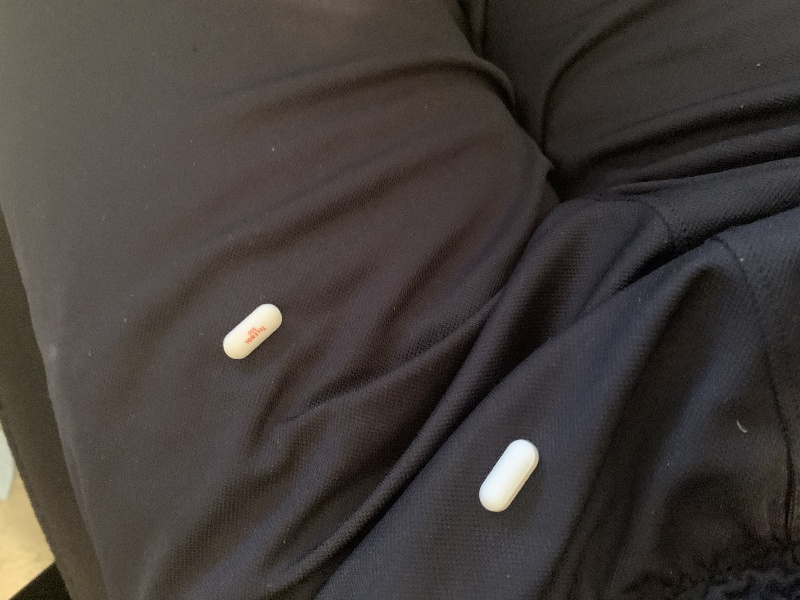Tylenol: (474, 436, 544, 517), (219, 298, 286, 365)
